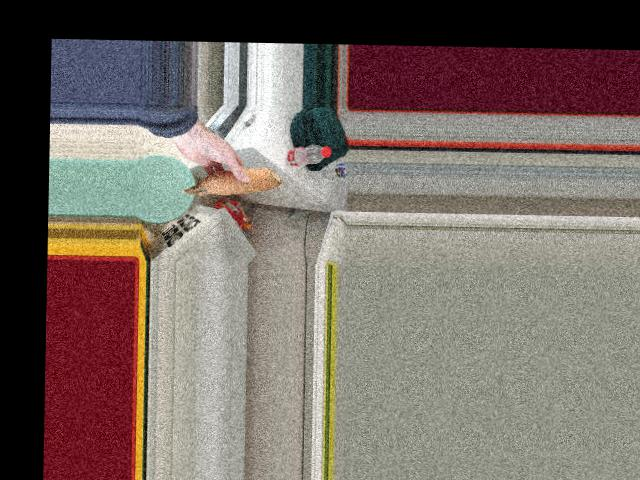sweet_potato: (177, 171, 285, 199)
